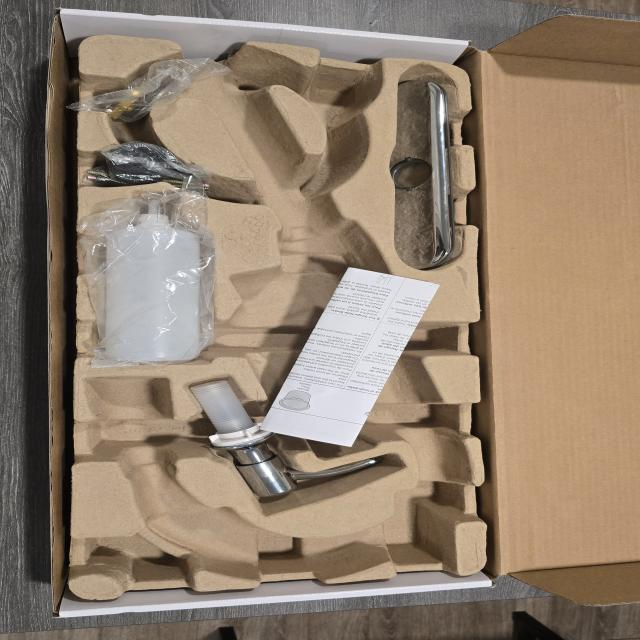1m: (87, 42, 463, 575)
2o: (187, 381, 378, 498)
3: (100, 193, 203, 361)
4: (387, 81, 456, 269)
5m: (308, 75, 370, 123)
6: (66, 56, 233, 124)
7: (78, 141, 211, 192)
8: (260, 267, 441, 448)
